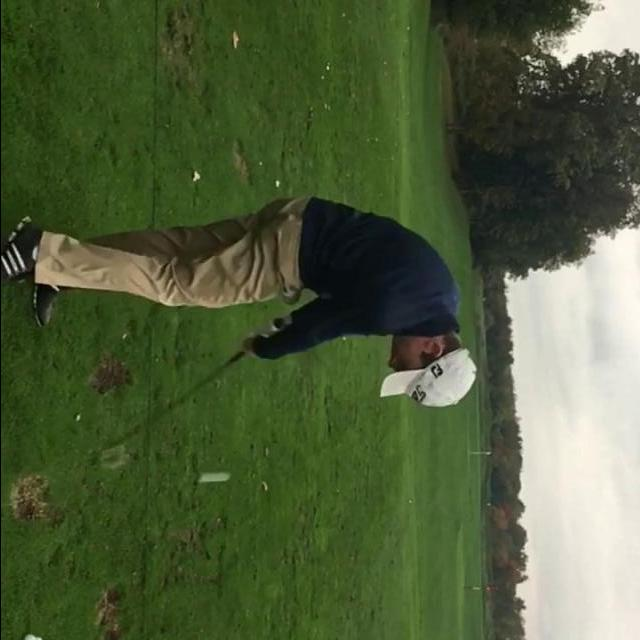ClubHandle: (92, 350, 243, 470)
ClubHead: (93, 446, 125, 470)
GolfBall: (199, 473, 228, 482)
